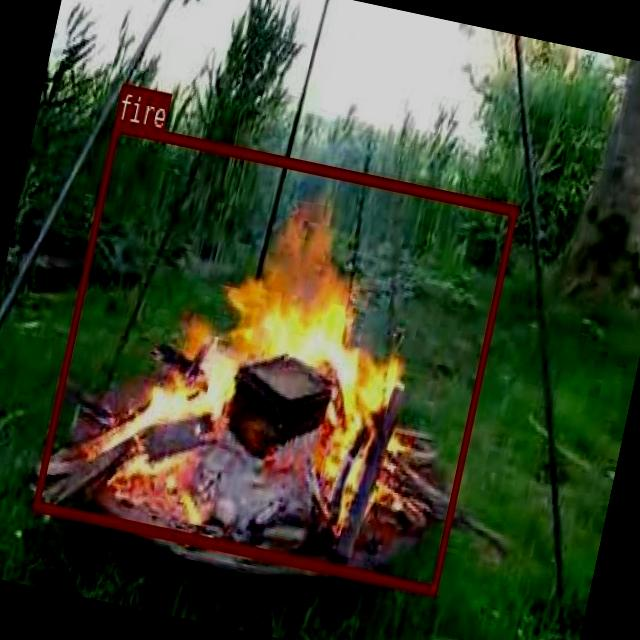fire: (31, 118, 518, 594)
